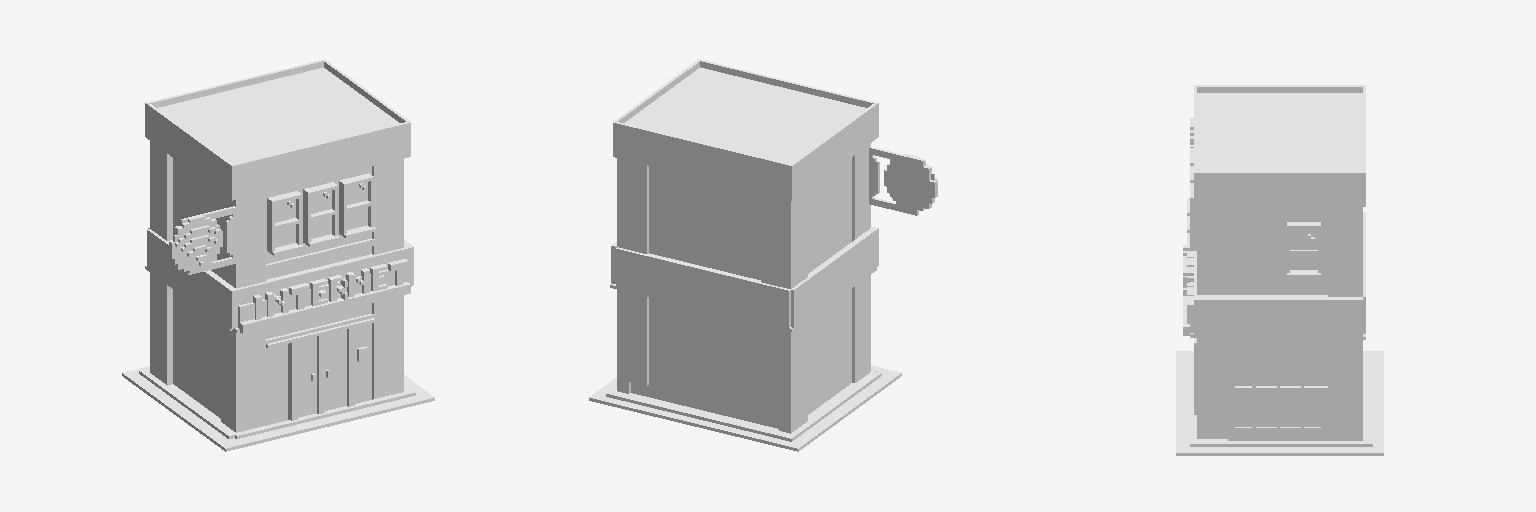
Rendered from internet.obj.
3 views of the same model, side by side, from view 1: azimuth 30°, elevation 25°; view 2: azimuth 150°, elevation 25°; view 3: azimuth 270°, elevation 25° (orthographic).
Visible parts, largest first — view 1: object 1; view 2: object 1; view 3: object 1.
Boxes of the visible parts, <box> form: object 1: <box>122,59,434,451</box>; object 1: <box>589,59,937,451</box>; object 1: <box>1176,85,1383,455</box>.
Size of the model in its own units: 8.5 by 8.8 by 6.